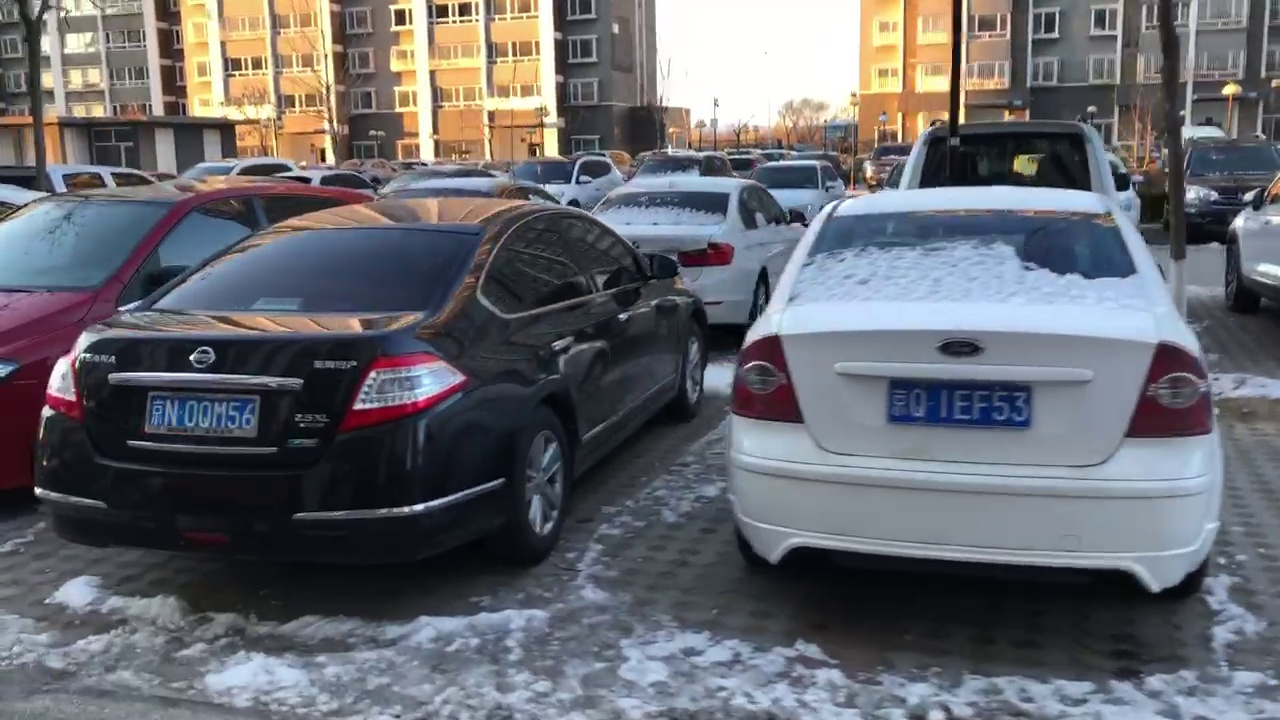plate: (884, 382, 1031, 423), (141, 397, 266, 434)
